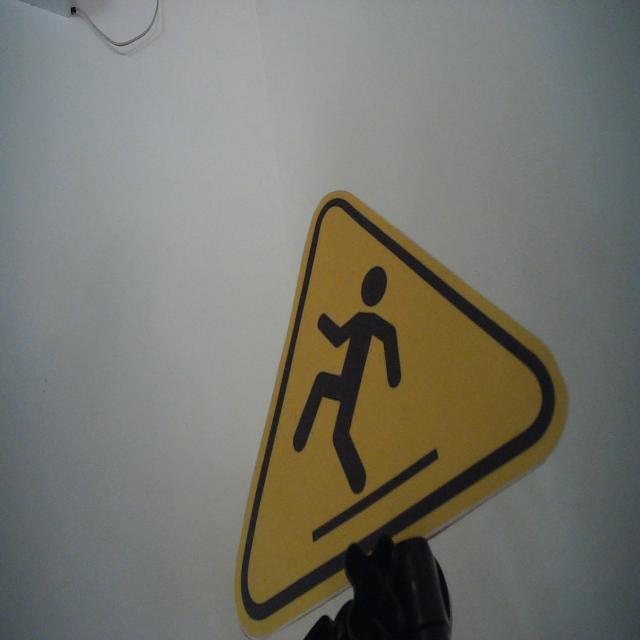slippery_sign: (232, 188, 571, 638)
